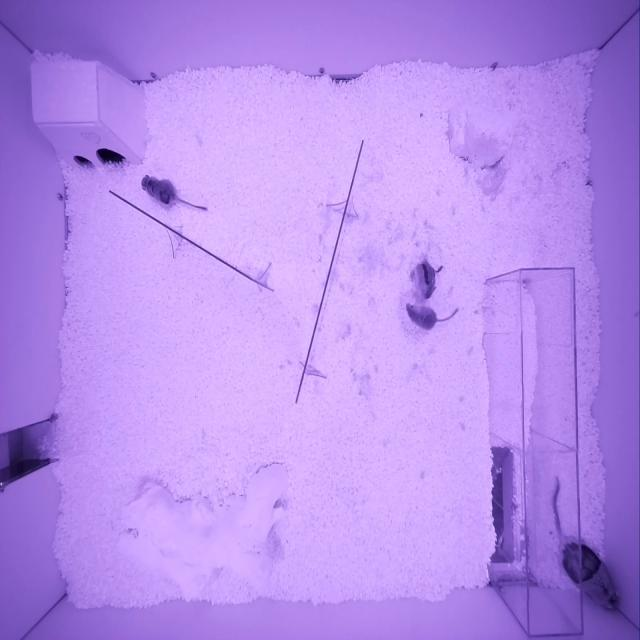adult_back: (558, 535, 620, 610)
pup_fluffy: (406, 304, 436, 329)
pup_spotted: (141, 174, 176, 206)
pup_v_stripe: (410, 262, 437, 300)
